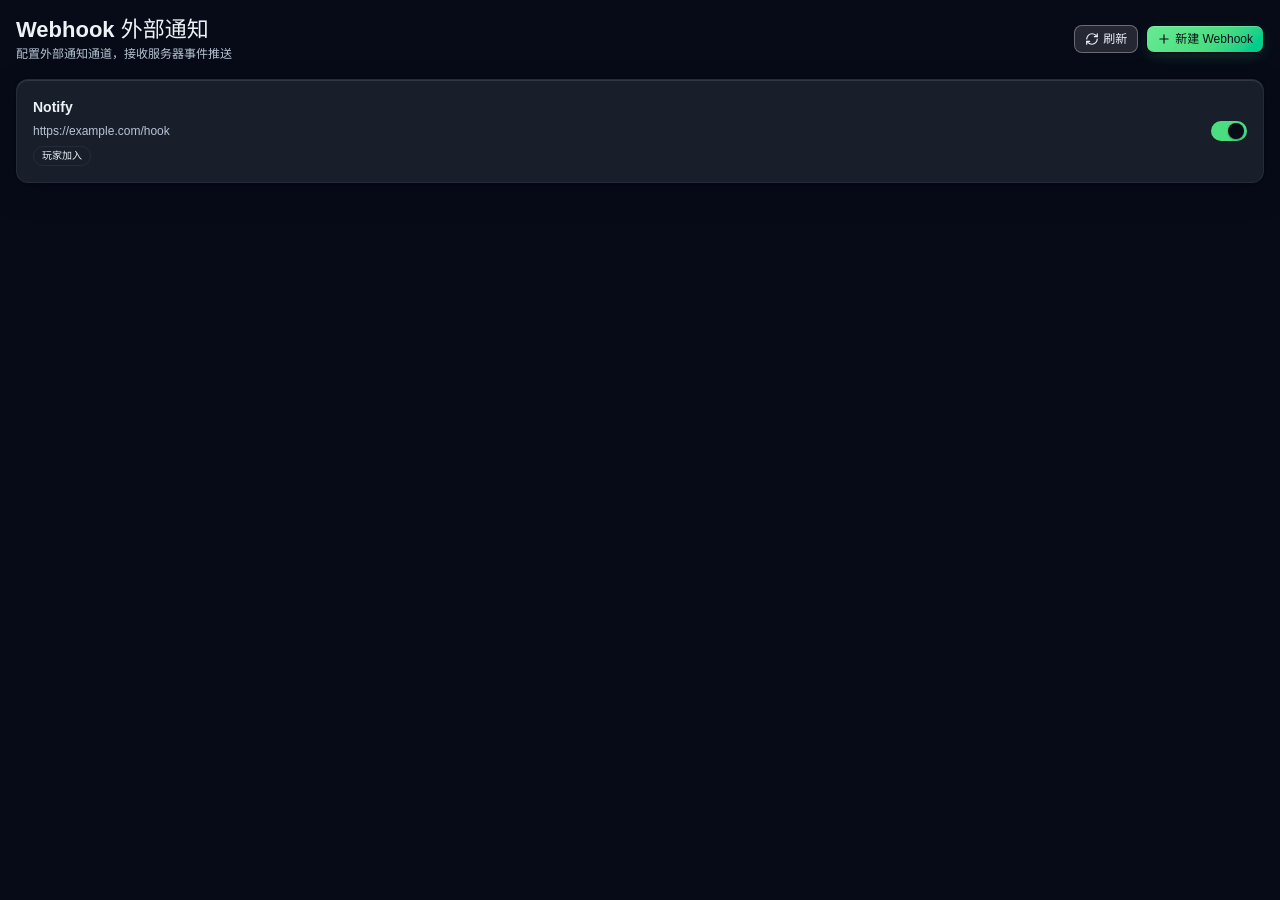
设置弹窗：投递日志（发送内容 + 响应内容） › 成功投递记录同样可查看响应体
Click the button with aria-label "设置 Notify". click: (53, 107)
box: top-left (33, 92), bottom-right (1199, 170)
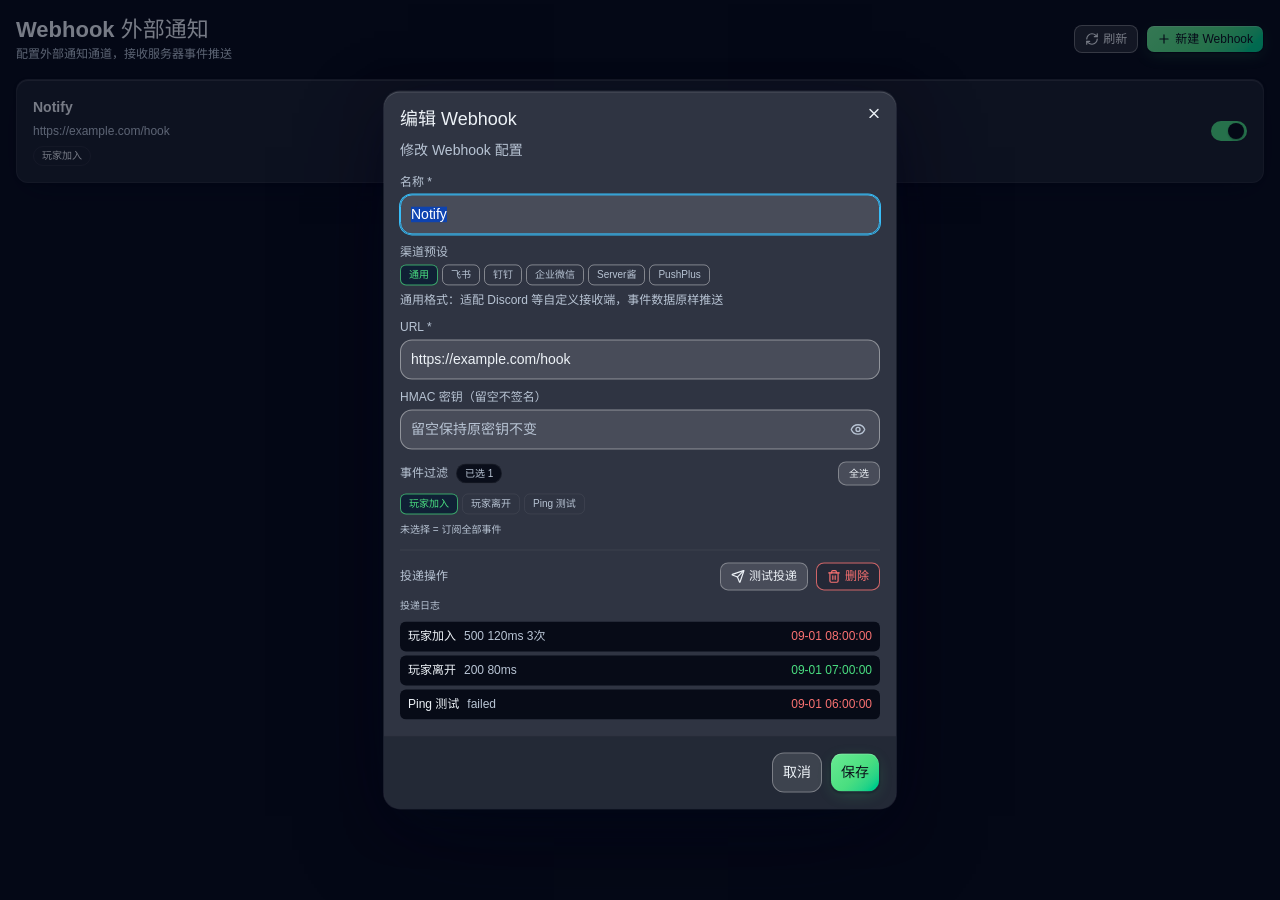
Click the button "玩家离开200 80ms 09-01 07:00:00". click: (432, 671)
box: top-left (400, 656), bottom-right (880, 686)
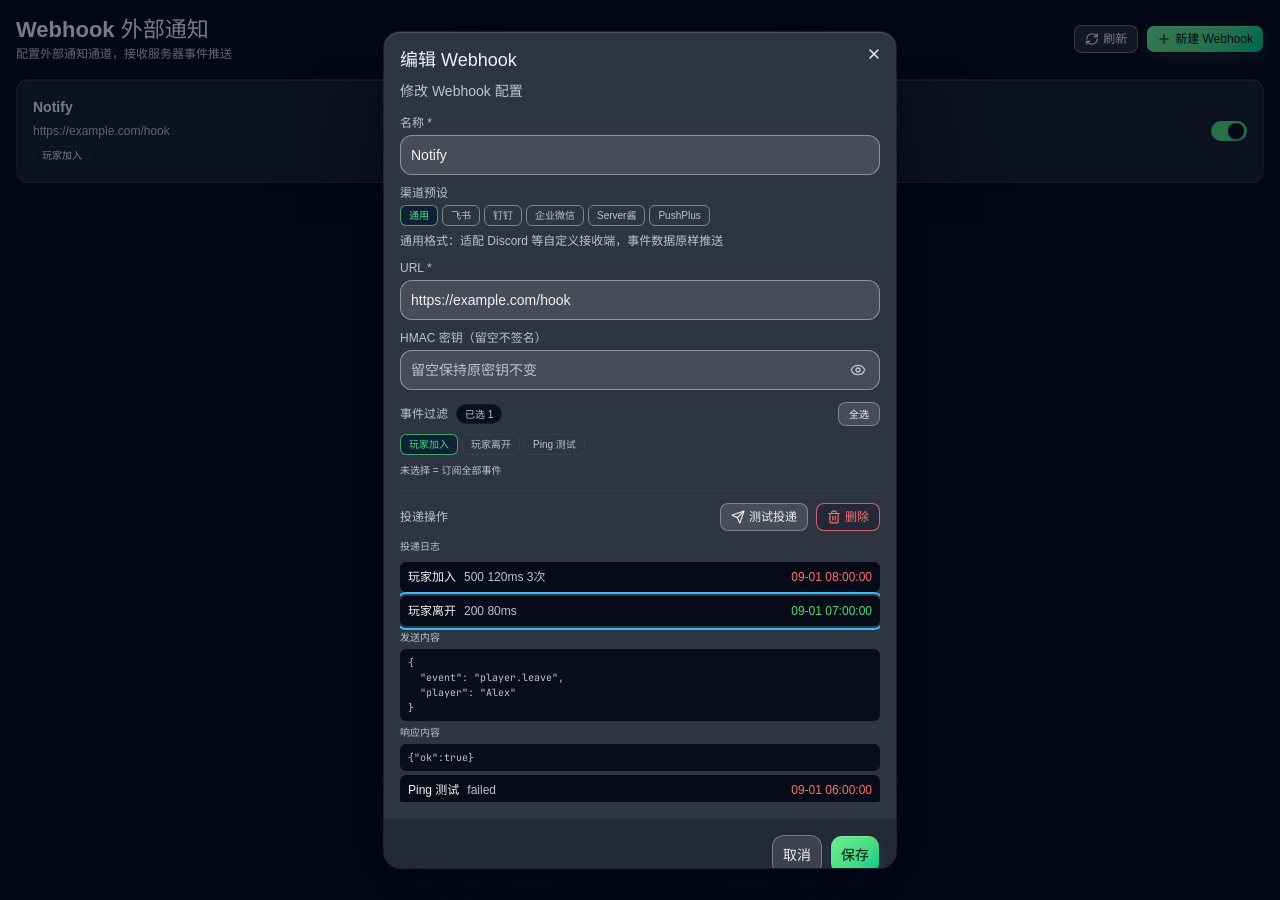
Now the text with test id "delivery-response-12" reads "{\"ok\":true}", box top-left (408, 751), bottom-right (474, 764)
